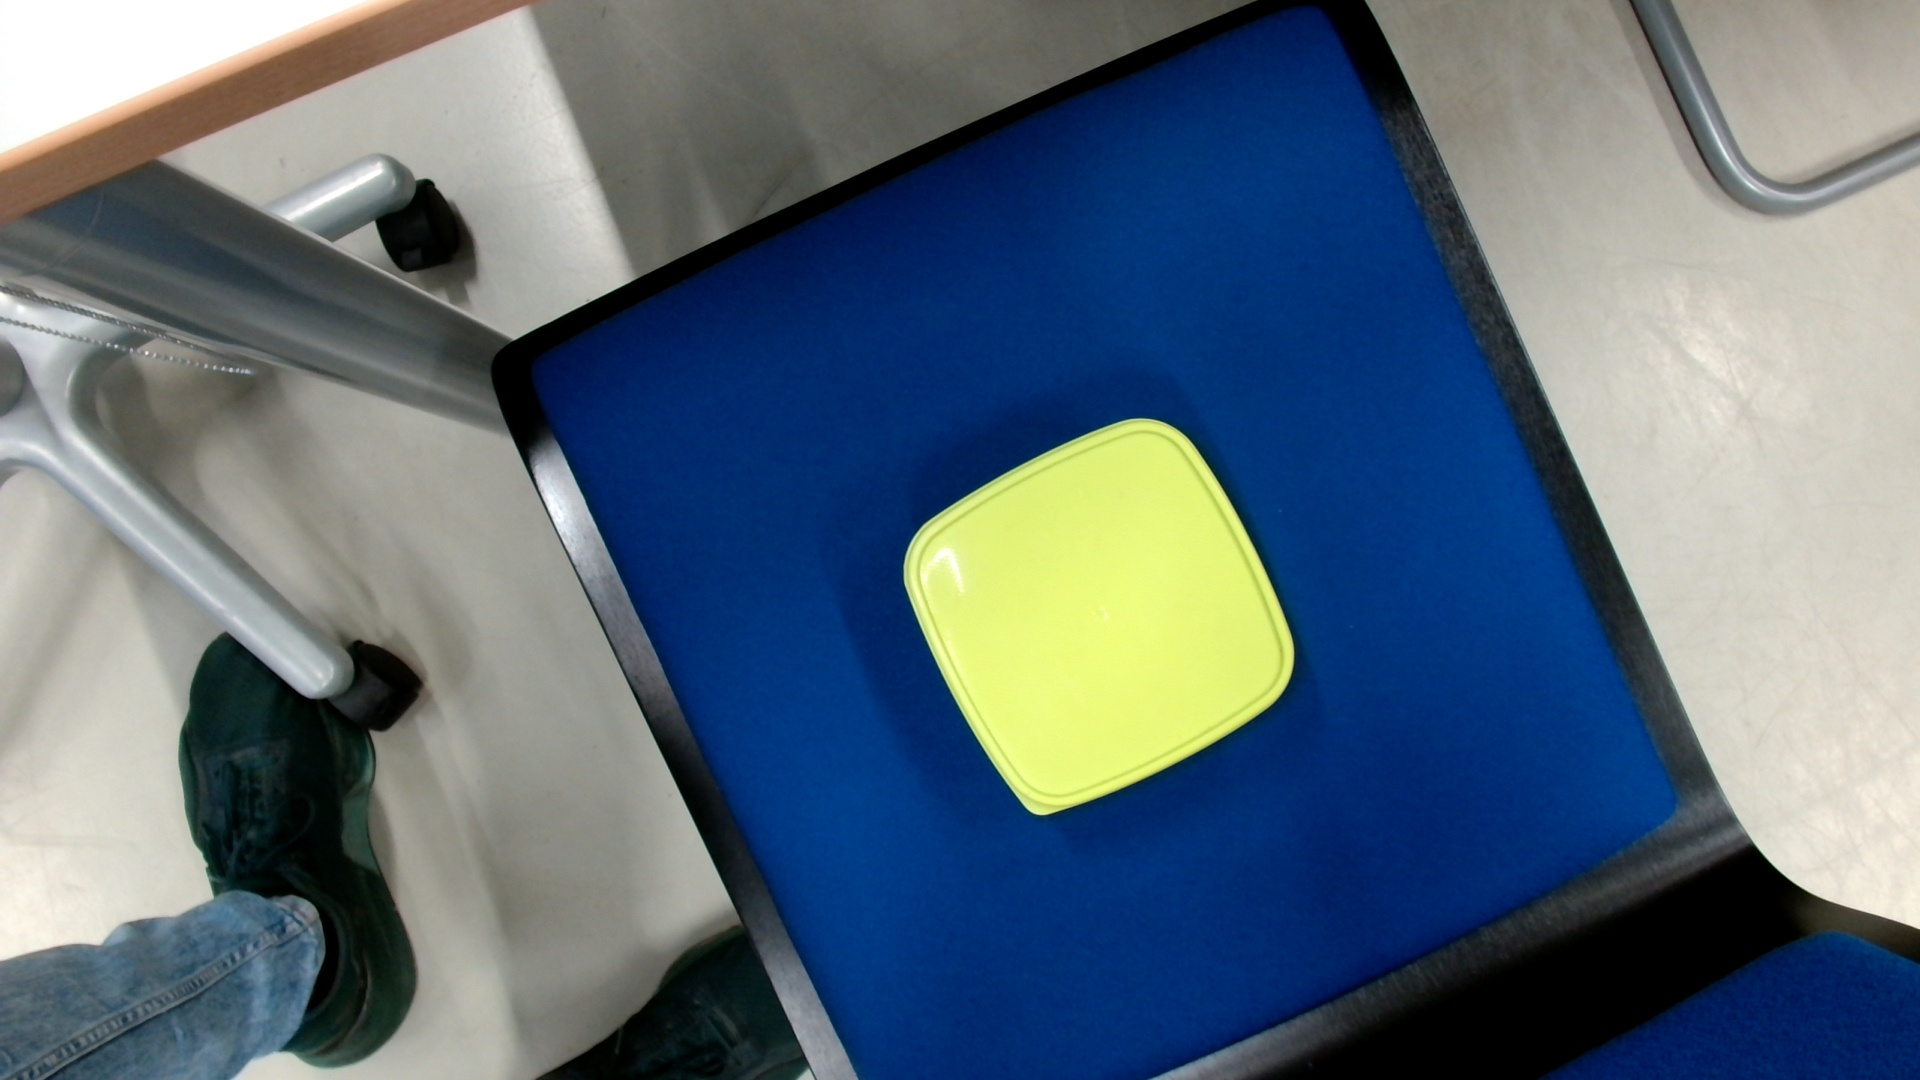Box: (894, 409, 1300, 828)
